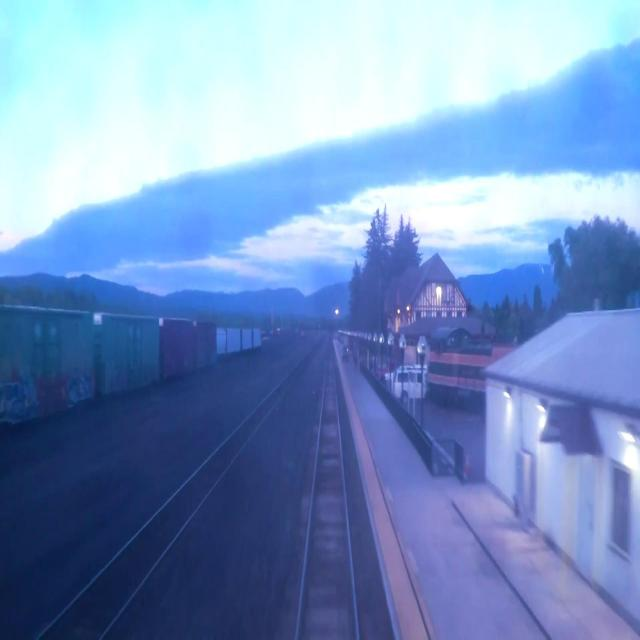rail-track: (42, 357, 307, 639), (299, 350, 355, 639)
